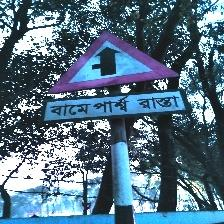Side-road-left: (43, 29, 186, 125)
